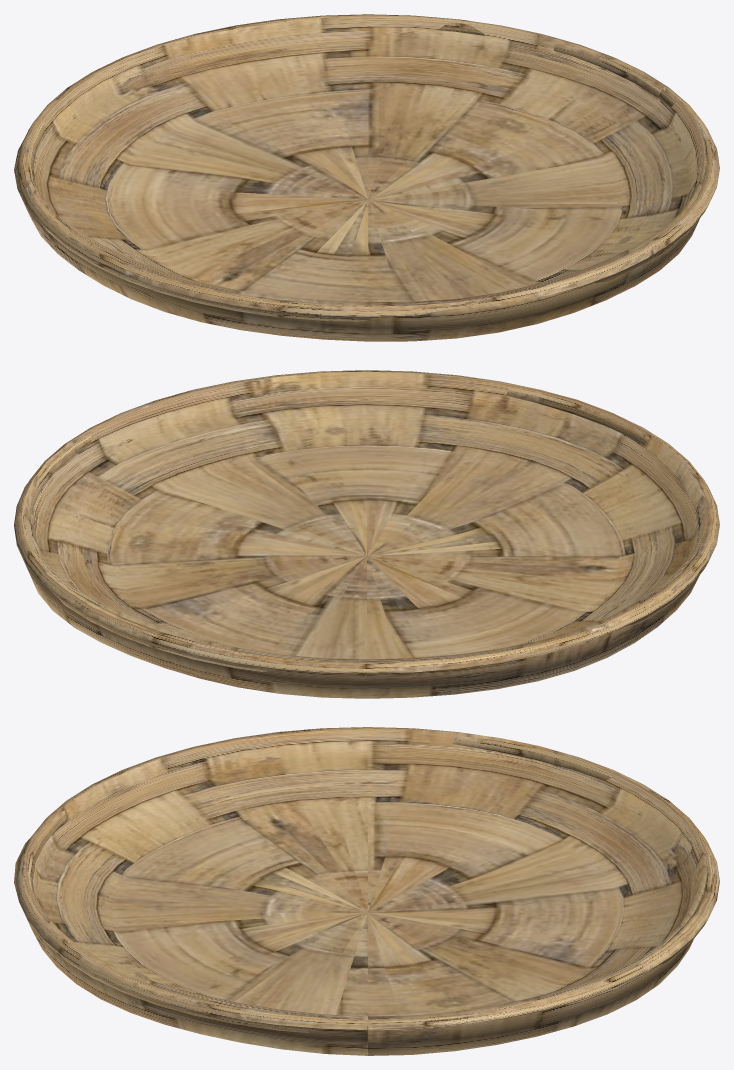
File: prop_kula.glb
The picture shows the model from 3 angles, top to bottom: view 1: azimuth 30°, elevation 25°; view 2: azimuth 150°, elevation 25°; view 3: azimuth 270°, elevation 25°; orthographic projection.
Parts seen in each view (by area): view 1: prop_kula; view 2: prop_kula; view 3: prop_kula.
Boxes of the visible parts, x1=… form: prop_kula: x1=14, y1=14, x2=719, y2=341; prop_kula: x1=14, y1=370, x2=719, y2=698; prop_kula: x1=14, y1=727, x2=719, y2=1055.
Size of the model in its own units: 0.5 by 0.045 by 0.5.
1 material, 1 textured.
